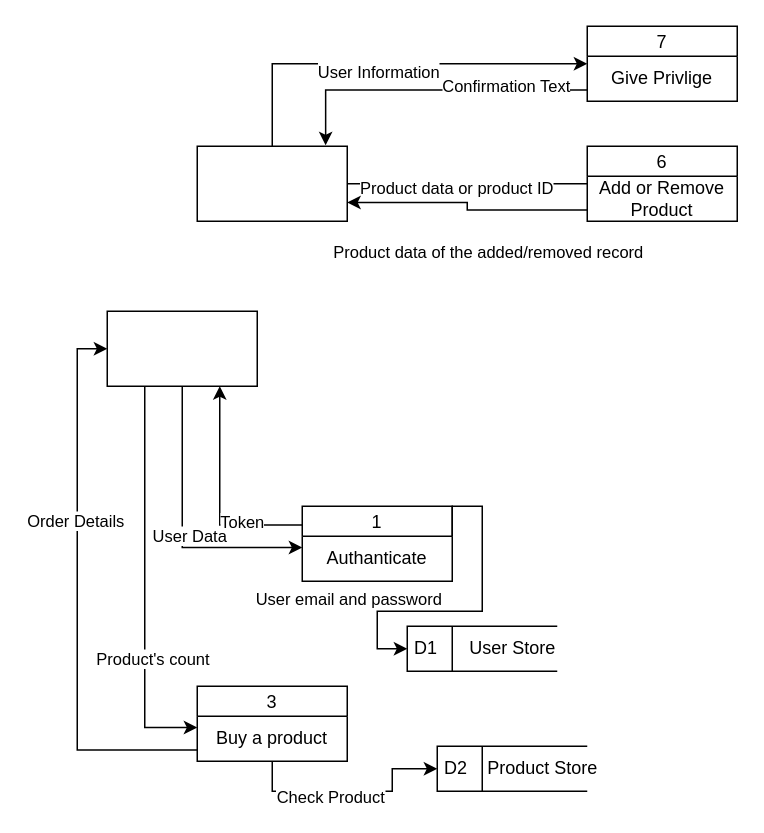
Some shapes in this 764 by 833 pixel diagram are drawn without their labels. The shapes that lost their labels are listed below. From the top down, each one's centre as x and y in pixels, then its label:
At (x=271, y=183): "System User".
At (x=181, y=348): "End-User".
